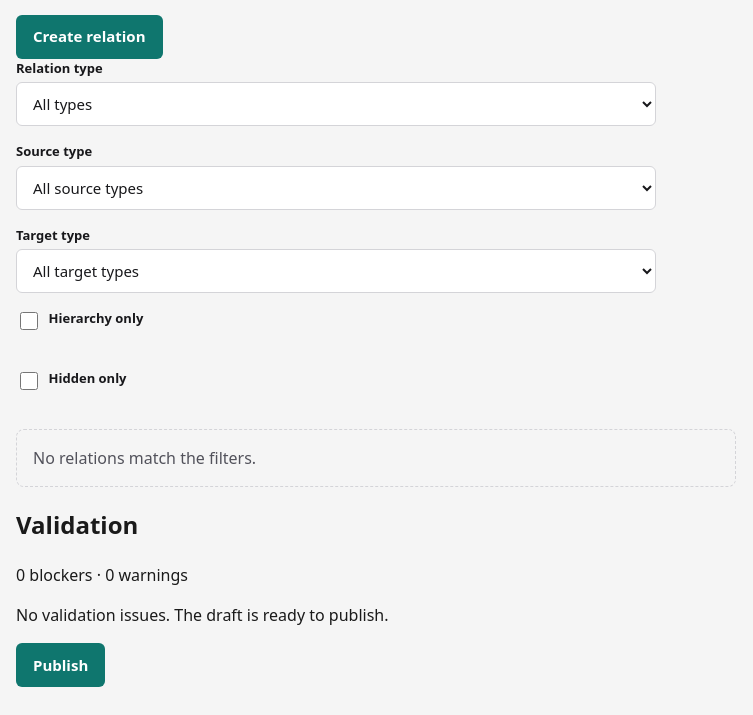
Scenario: AtlasEditorPage publish lifecycle (Plan B Task 15) › switches the panel to the returned issues on publish precondition failure
(page scrolled)
Step 1. Click the button "Publish" → (61,665), box left=16, top=643, right=105, bottom=687
(page scrolled)
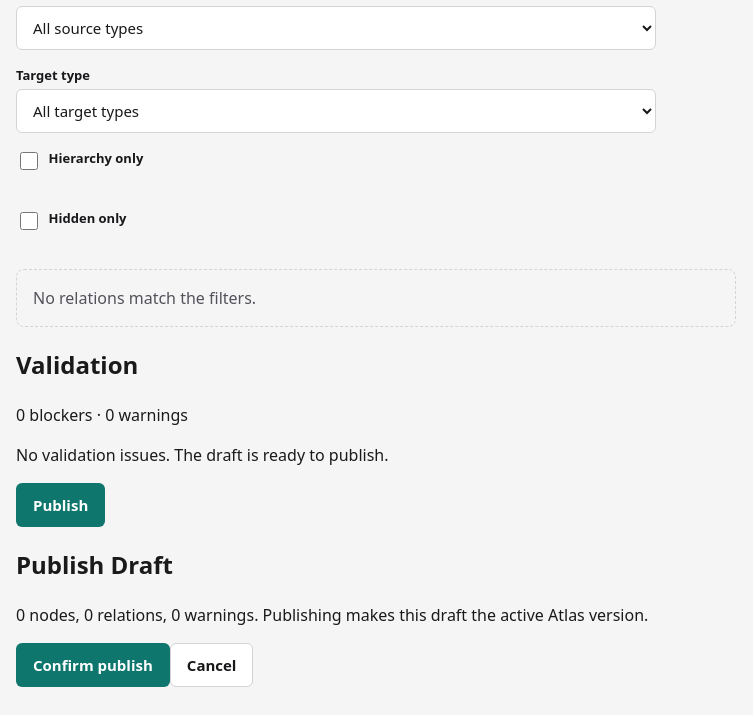
Result: the button "Confirm publish" is shown
Step 2. Click the button "Confirm publish" → (93,665), box left=16, top=643, right=170, bottom=687
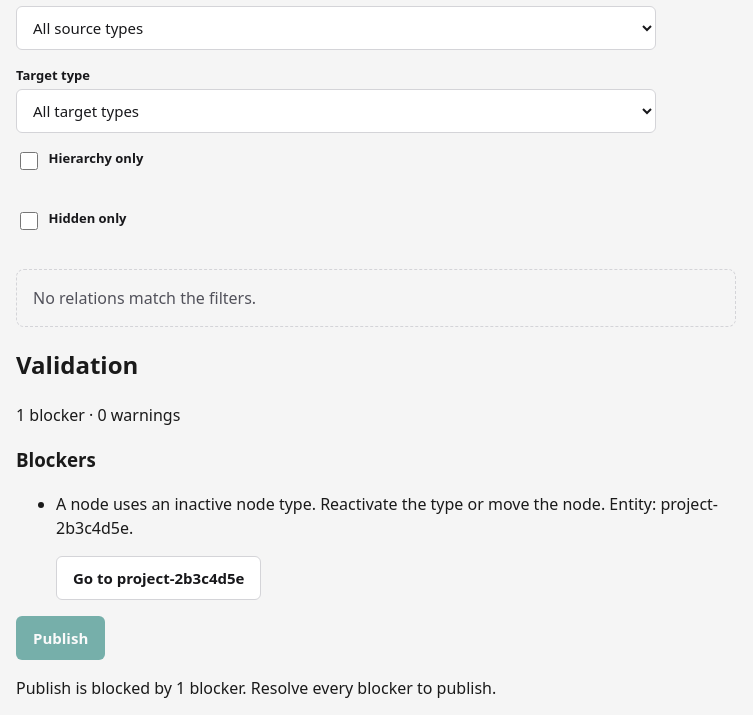
Result: the text "inactive node type" is shown 2 times
Result: the button "Publish" is disabled at left=16, top=616, right=105, bottom=660
